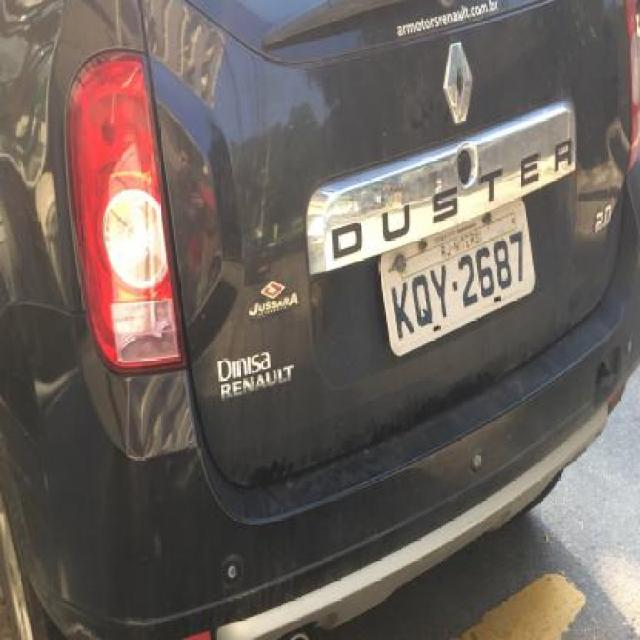old_plate: (373, 194, 541, 366)
